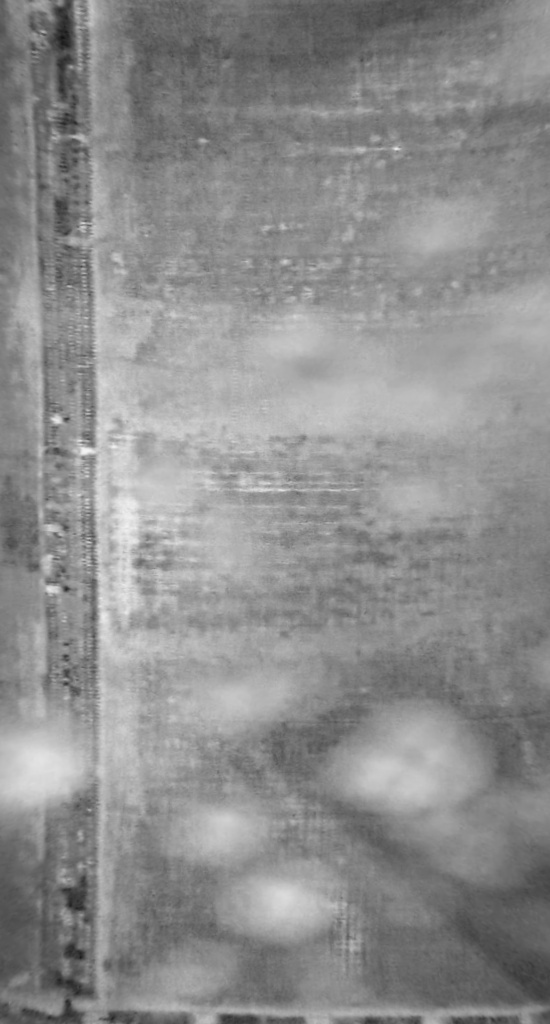splice: (23, 2, 120, 1023)
